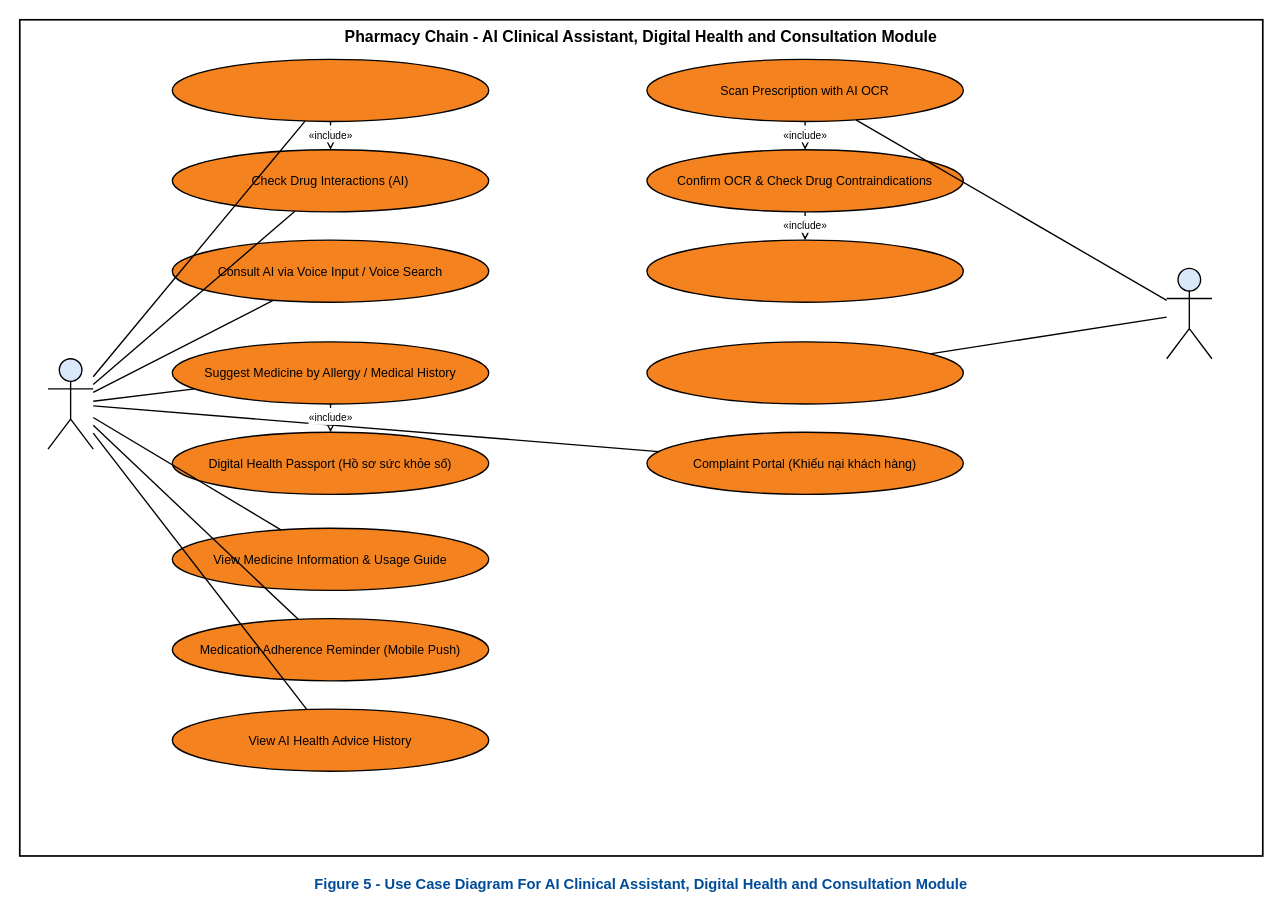
Some shapes in this 1284 by 921 pixel diagram are drawn without their labels. Each missing label, with the centre of its shape:
"Consult Basic Symptoms with AI Chatbot" belongs at point (330, 90).
"Customer" belongs at point (70, 403).
"Manage AI Voice Consultation Records" belongs at point (804, 372).
"Pharmacist" belongs at point (1188, 313).
"Save OCR Prescription History" belongs at point (804, 270).
